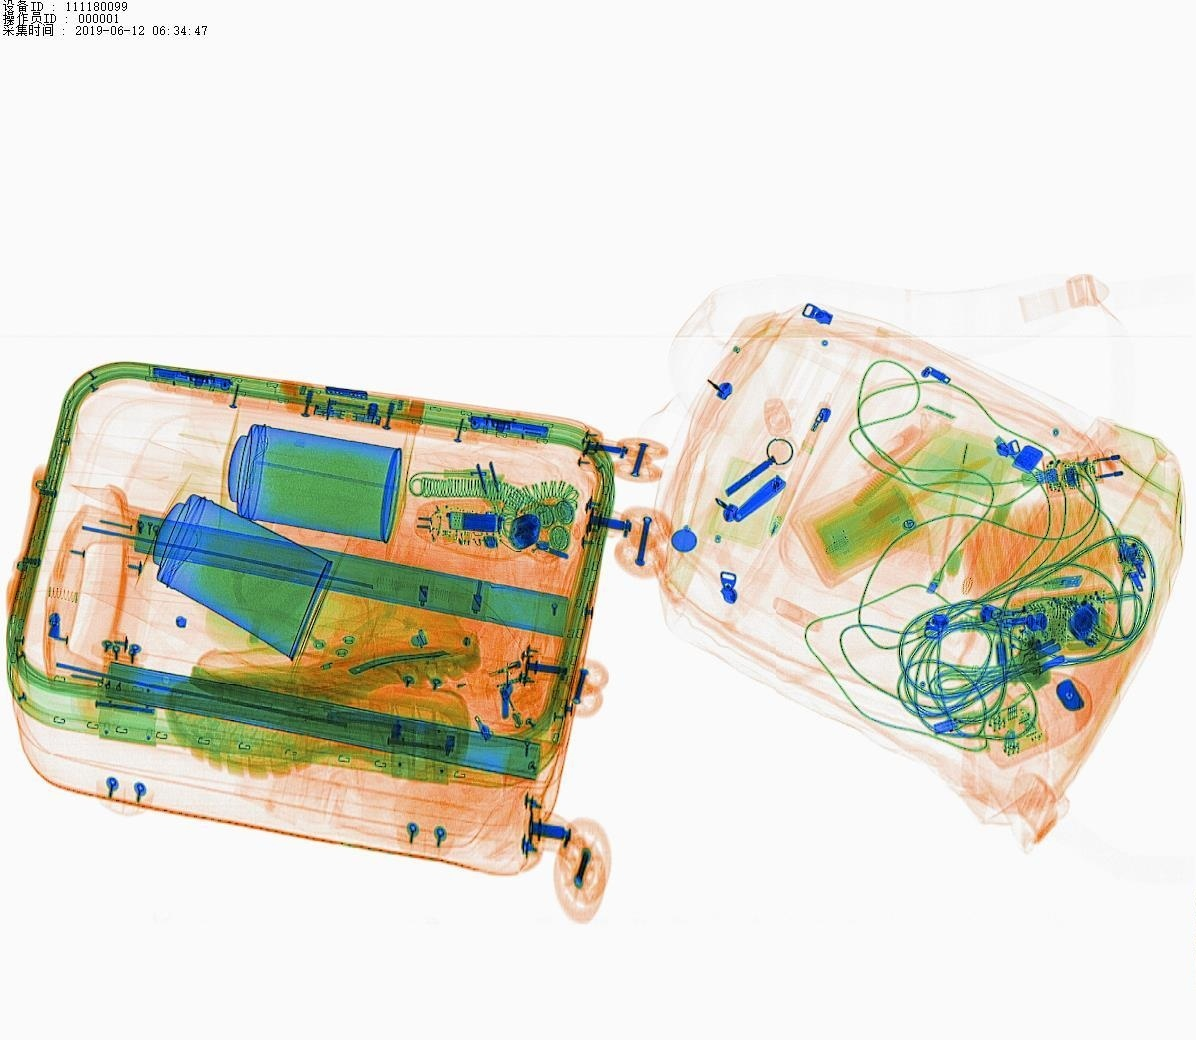NonmetallicFire: (446, 647, 582, 709)
